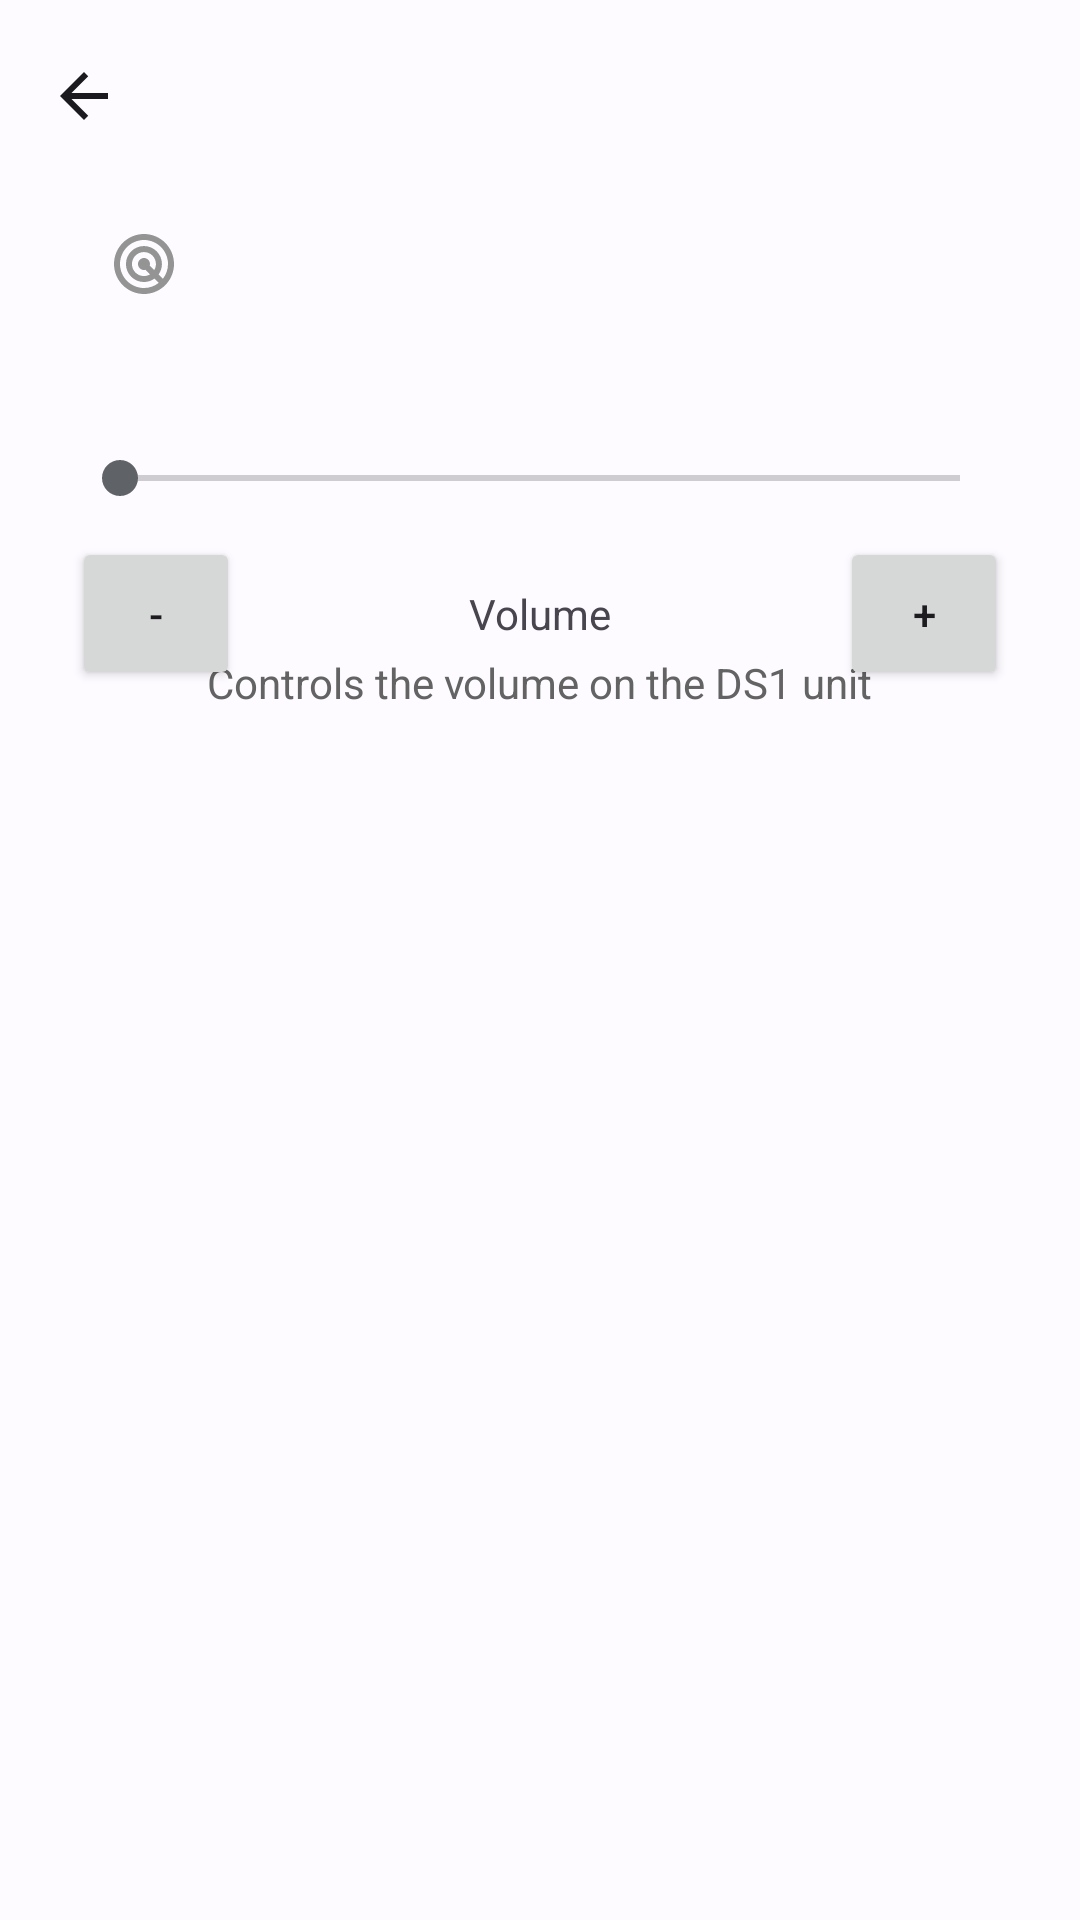

Locate icon controls on the screen. Image size 1080w x 1920h, boxes as (x1, y1, x2, y2).
Radar: (114, 234, 174, 294)
